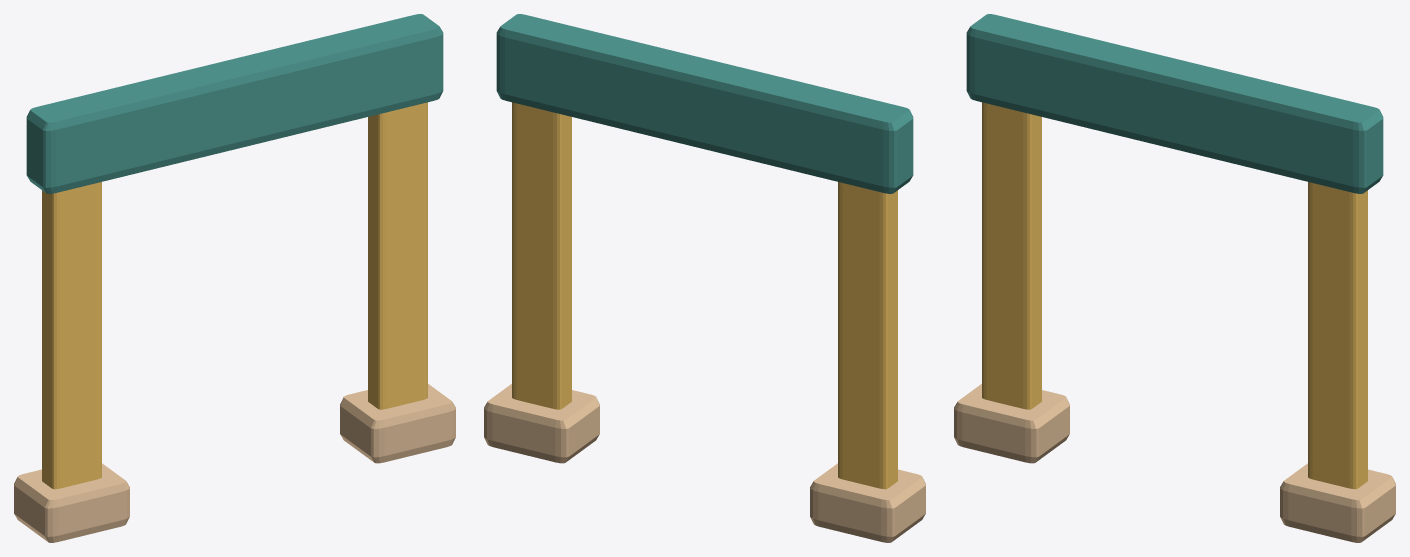
The model's file is delivery_gate.glb.
The picture shows the model from 3 angles, left to right: view 1: azimuth 30°, elevation 25°; view 2: azimuth 150°, elevation 25°; view 3: azimuth 330°, elevation 25°; orthographic projection.
Visible parts, largest first — view 1: model, header; view 2: model, header; view 3: model, header.
Boxes of the visible parts, <box> form: model: <box>14,102,455,542</box>; header: <box>26,14,443,193</box>; model: <box>484,102,925,542</box>; header: <box>496,14,913,193</box>; model: <box>954,102,1395,542</box>; header: <box>966,14,1383,193</box>.
Bounding box in the file's own units: 2.6 × 2.5 × 0.4.
